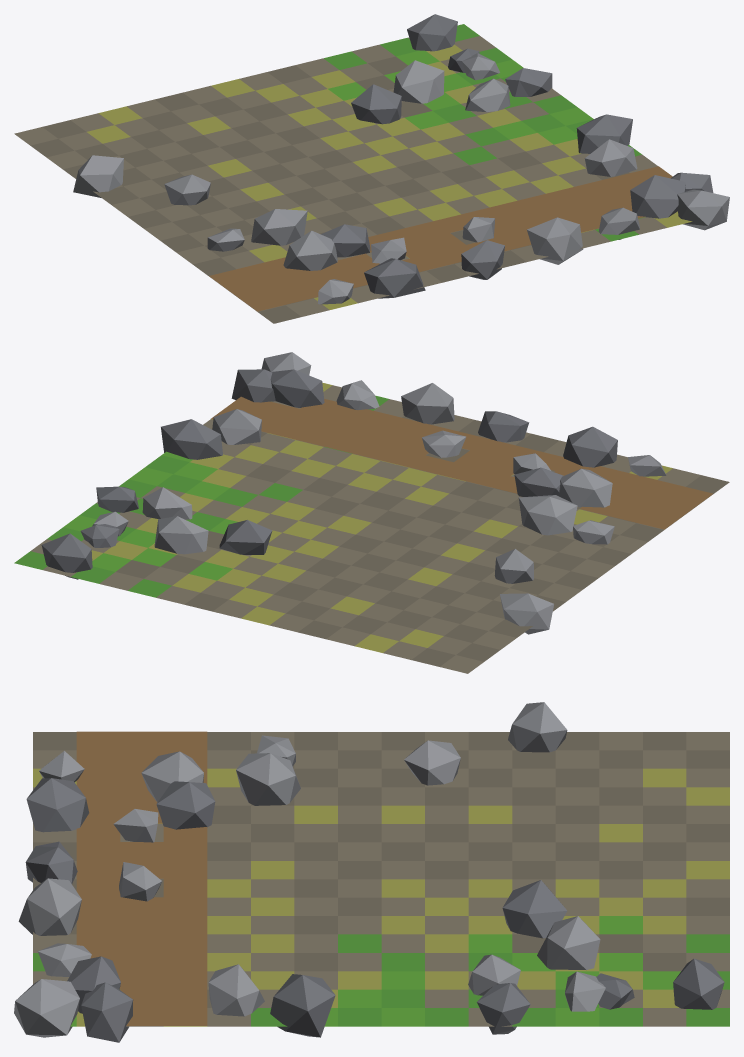
The model's file is chunk_7_17.glb.
3 renders of one model, top to bottom at view 1: azimuth 30°, elevation 25°; view 2: azimuth 150°, elevation 25°; view 3: azimuth 270°, elevation 25°, orthographic. The views are drawn at different scales.
Visible parts, largest first — view 1: chunk_7_17; view 2: chunk_7_17; view 3: chunk_7_17.
Part boxes in pixels (x1,y1,x2,y2): chunk_7_17: (14, 14, 729, 323); chunk_7_17: (14, 352, 729, 673); chunk_7_17: (14, 702, 729, 1042).
Bounding box in the file's own units: 16.82 × 1.76 × 16.44.
